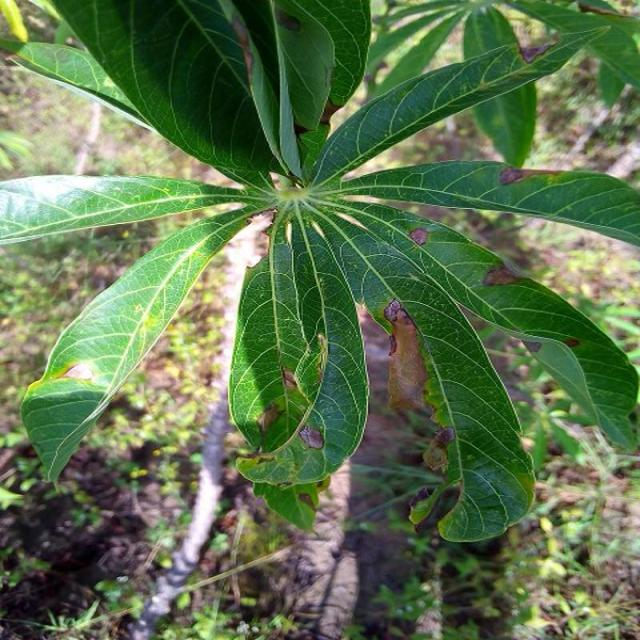cassava leaf: (2, 0, 640, 545), (20, 201, 267, 484)
